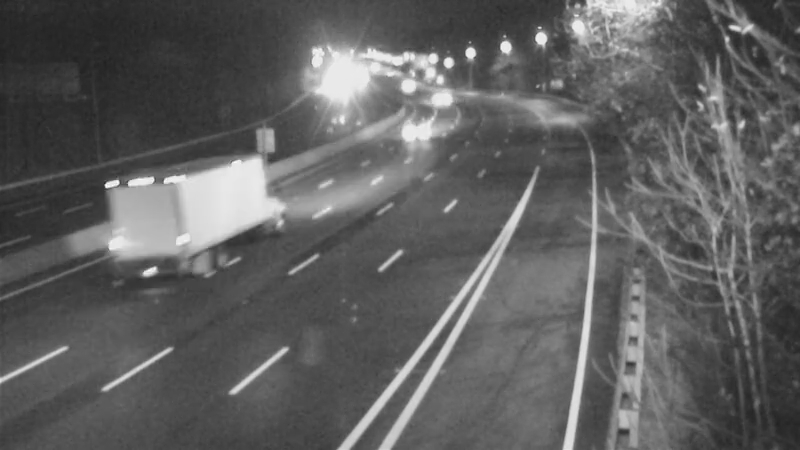vehicle: (178, 165, 258, 245), (382, 60, 432, 110), (411, 72, 461, 122), (397, 105, 447, 155)
